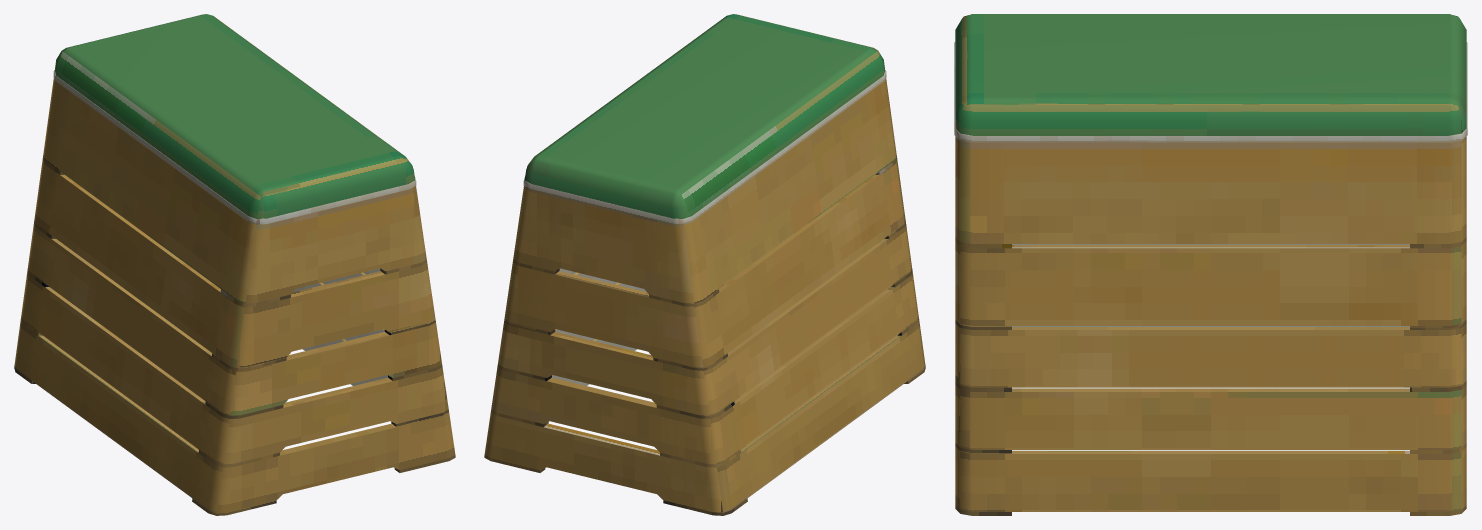
File: objects_un_base_vaultingbox01.gltf
3 renders of one model, left to right at view 1: azimuth 30°, elevation 25°; view 2: azimuth 150°, elevation 25°; view 3: azimuth 270°, elevation 25°, orthographic. The views are drawn at different scales.
Visible parts, largest first — view 1: objects_un_base_vaultingbox01_mesh_shape:objects_un_base_vau; view 2: objects_un_base_vaultingbox01_mesh_shape:objects_un_base_vau; view 3: objects_un_base_vaultingbox01_mesh_shape:objects_un_base_vau.
Boxes of the visible parts, x1=… form: objects_un_base_vaultingbox01_mesh_shape:objects_un_base_vau: x1=14, y1=14, x2=455, y2=515; objects_un_base_vaultingbox01_mesh_shape:objects_un_base_vau: x1=484, y1=14, x2=925, y2=515; objects_un_base_vaultingbox01_mesh_shape:objects_un_base_vau: x1=954, y1=14, x2=1467, y2=515.
Size of what is drawn, in the model's own units: 0.8274 by 1.01 by 1.2.
1 material, 1 textured.
